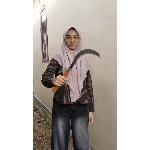Celurit: (54, 45, 109, 89)
